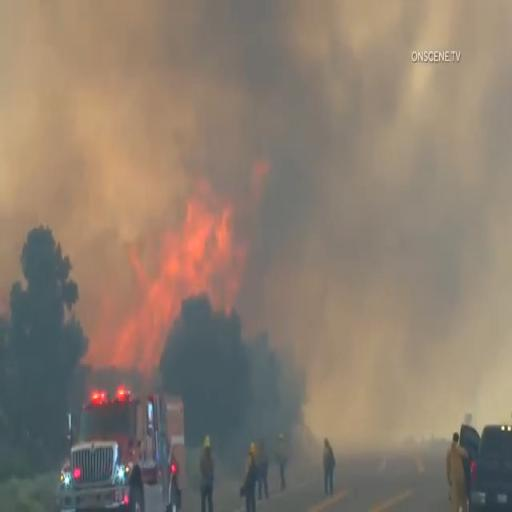smoke: (323, 188, 479, 400), (232, 24, 381, 192)
